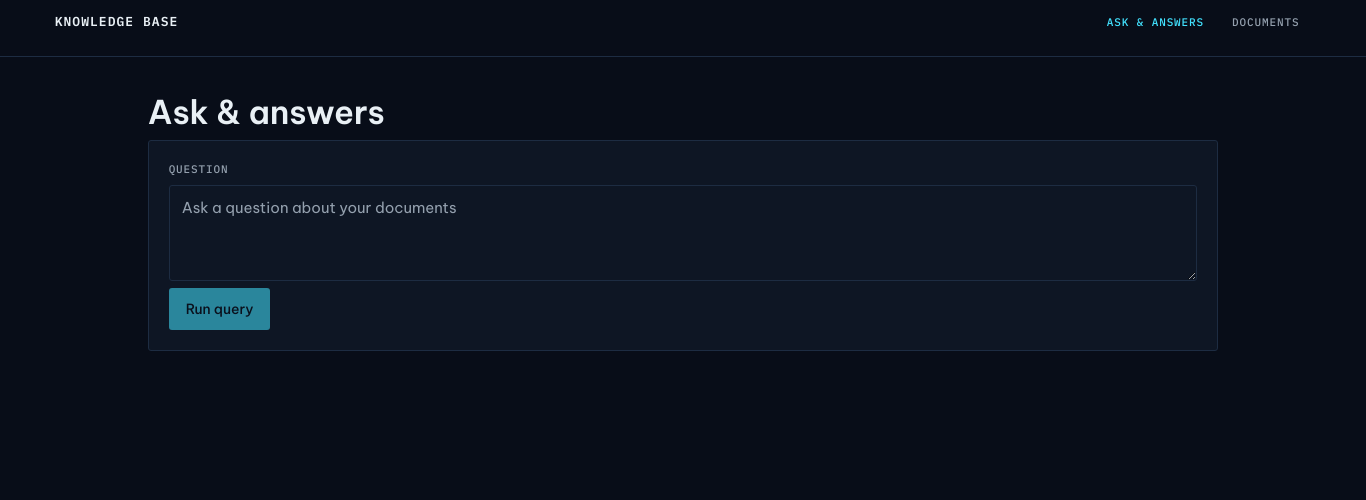
Test: App — query, answer, and evidence › shows a safe request error with Retry and New query
Step 1. Type "x" into the text box labelled "Question" → (683, 233), box x1=169 y1=185 x2=1197 y2=281
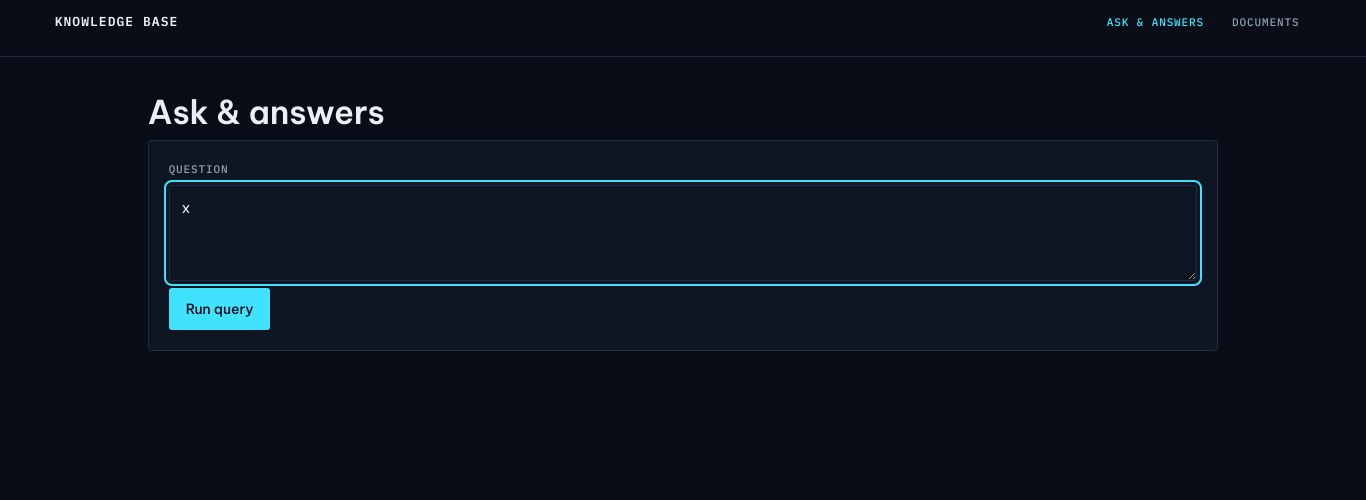
Step 2. Click the button "Run query" → (220, 309), box x1=169 y1=288 x2=270 y2=330
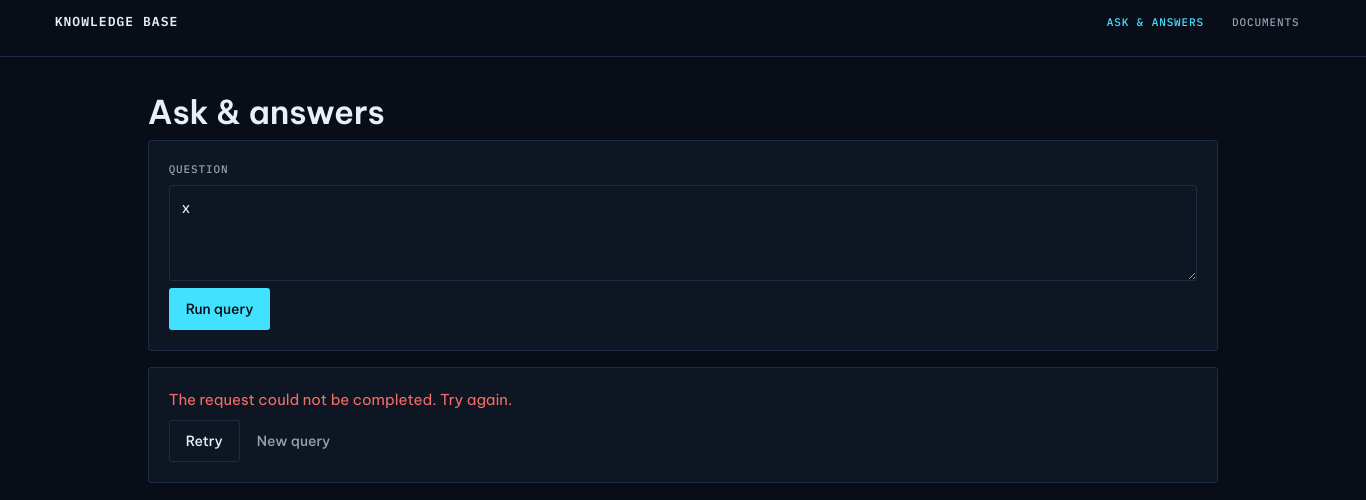
Now the text "The request could not be completed. Try again." is shown, box x1=169 y1=390 x2=512 y2=409
Now the button "Retry" is shown, box x1=169 y1=420 x2=240 y2=462
Now the button "New query" is shown, box x1=240 y1=420 x2=347 y2=462
